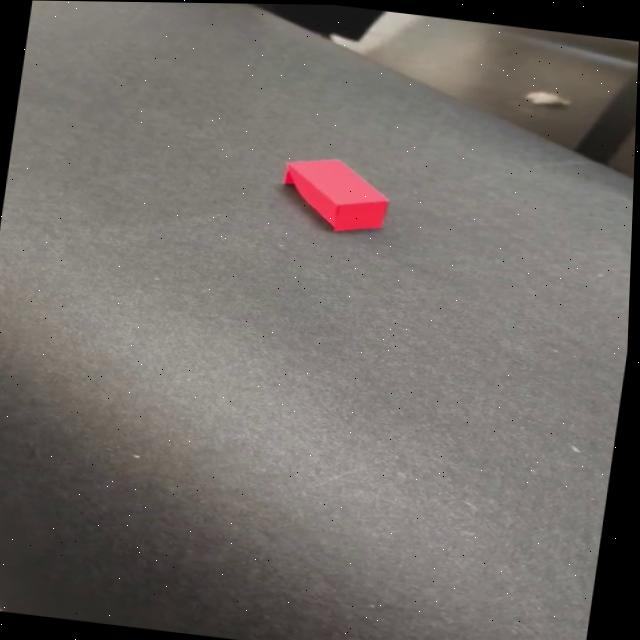red block: (275, 152, 397, 237)
